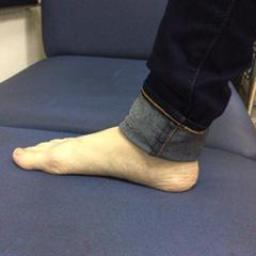Medial View -Right Foot-: (8, 86, 214, 207)
